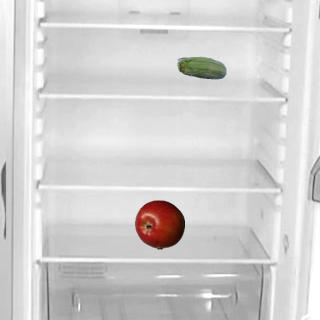Apple Braeburn: (134, 199, 184, 249)
Corn Husk: (176, 44, 226, 94)
